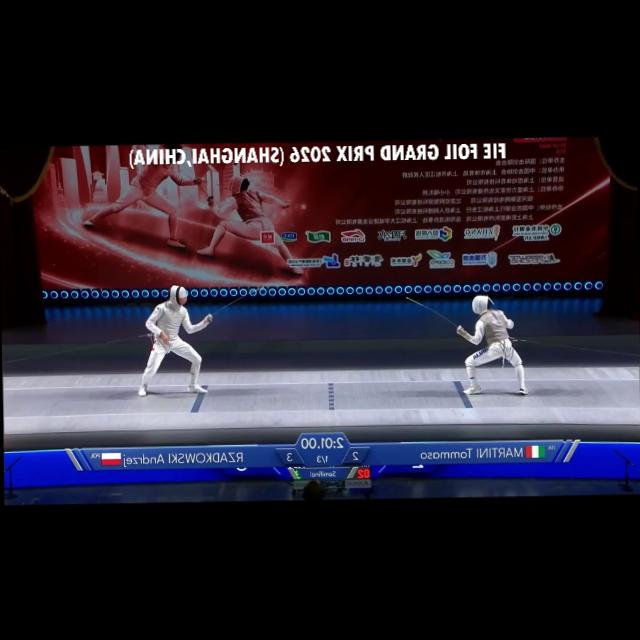blade: (200, 277, 277, 322), (401, 291, 464, 335)
